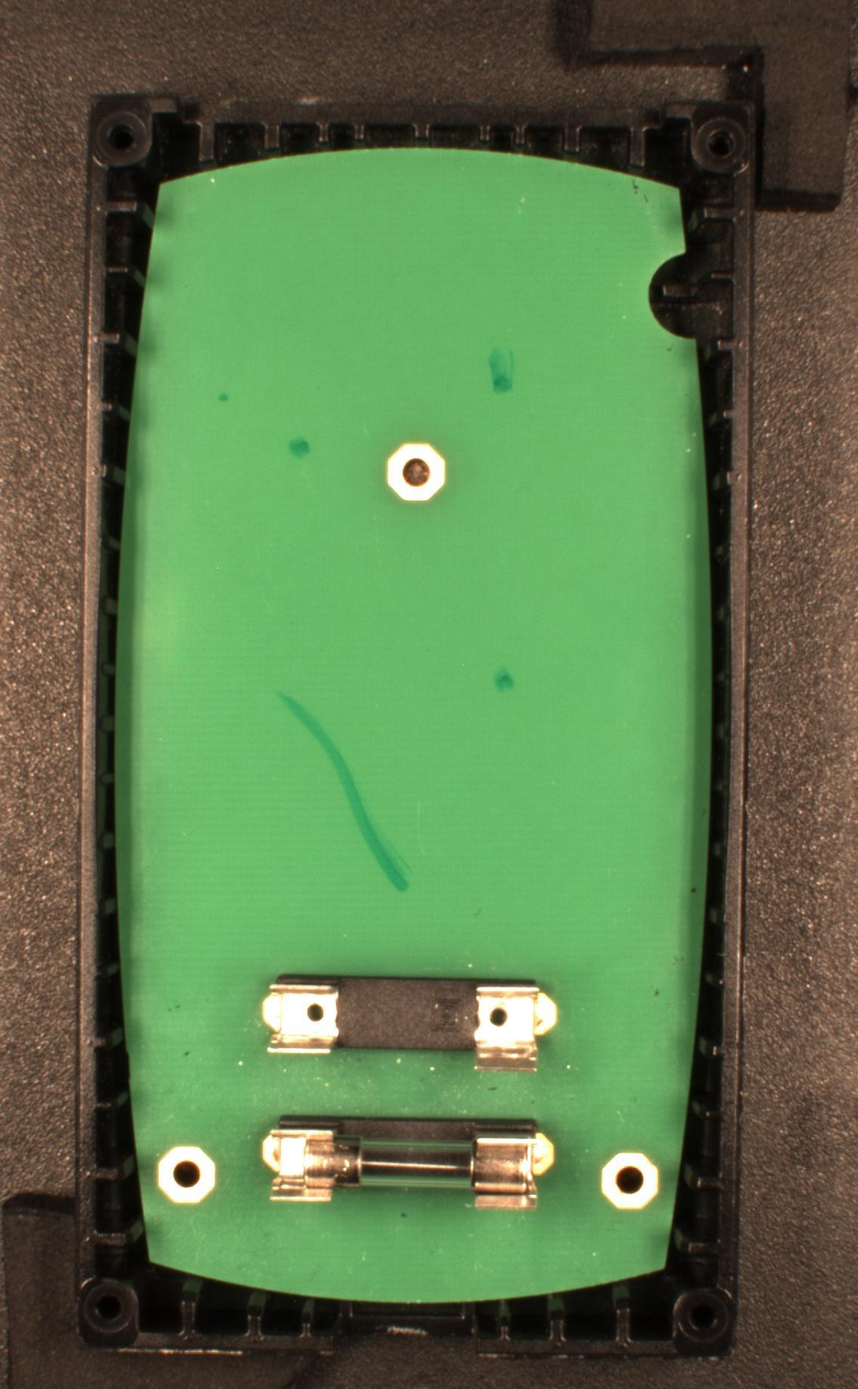Linijsko Ostecene: (275, 690, 411, 893)
Nepostojanje osiguraca: (261, 973, 557, 1073)
Tockasto Ostecenje: (487, 347, 514, 395), (492, 666, 516, 694), (288, 436, 310, 460), (219, 393, 230, 404)
